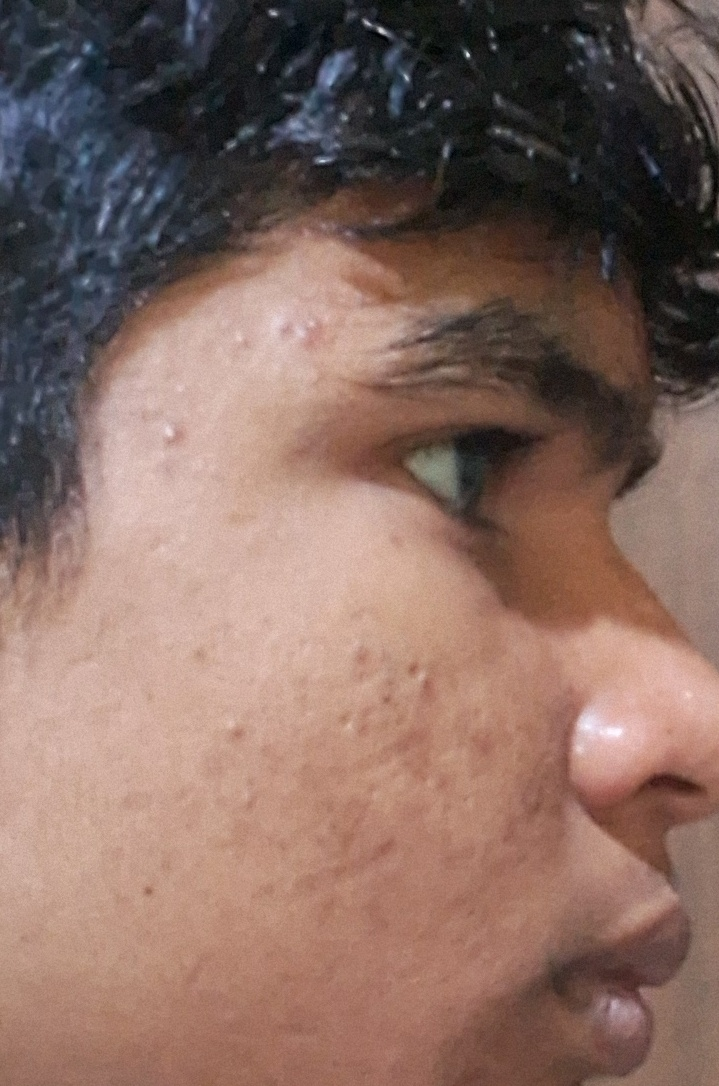closed_comedone: (391, 656, 450, 706), (214, 706, 264, 753)
papule: (267, 297, 341, 349), (142, 405, 197, 473)
